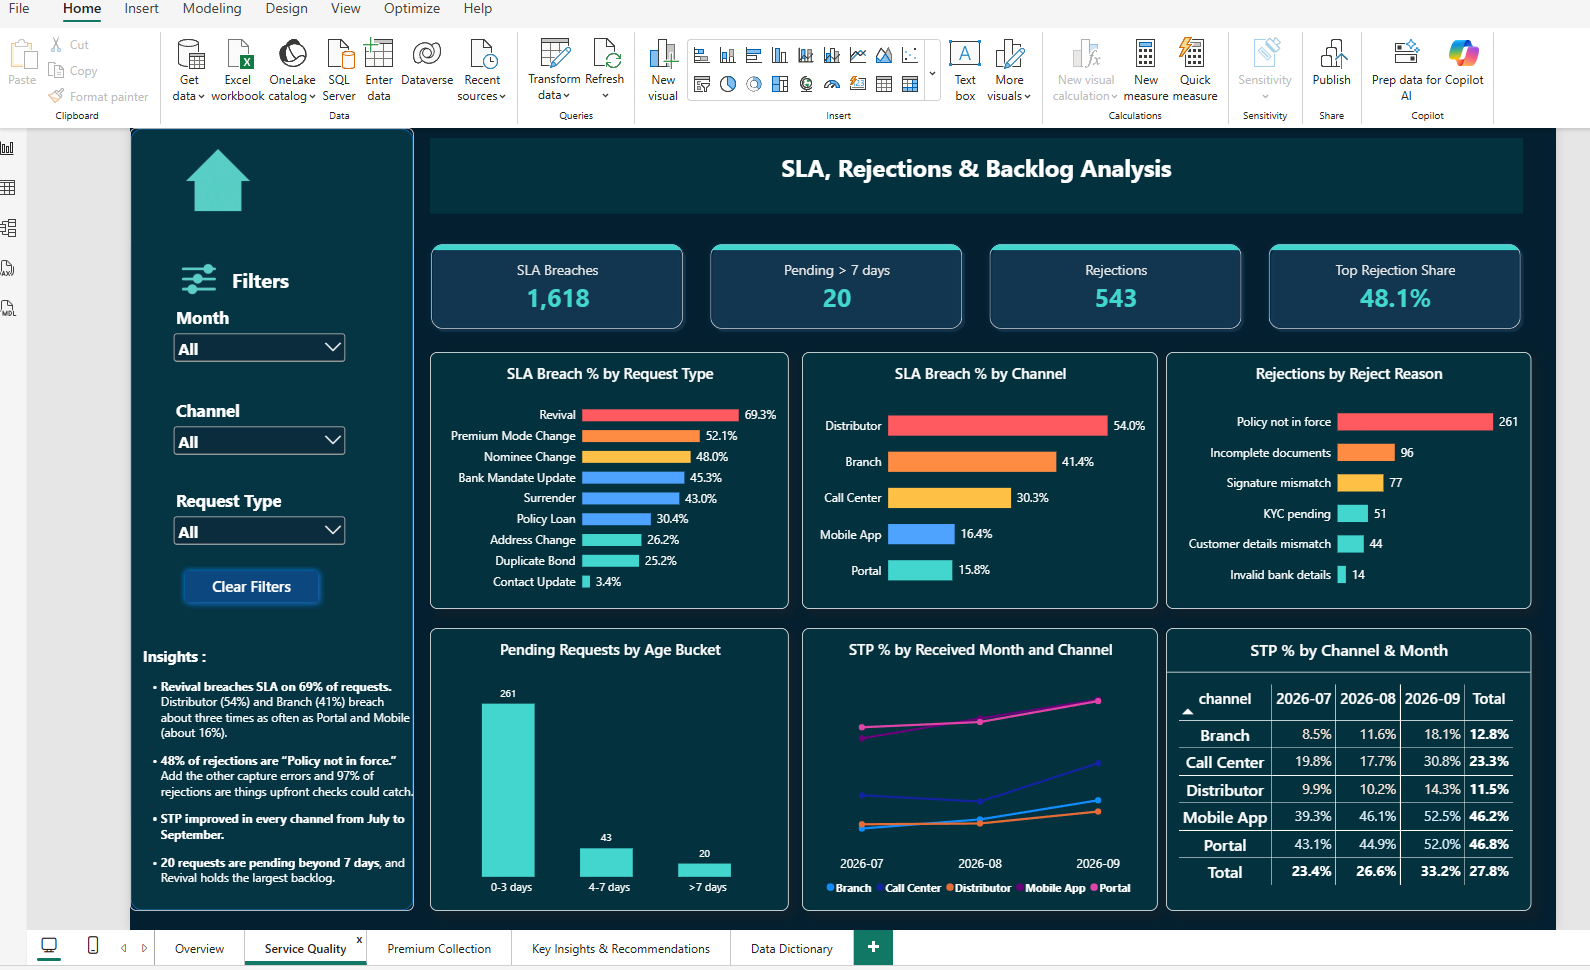

Layout of this report page (visuals, bound fields, positions):
{"tool":"powerbi","page":{"name":"Service Quality","canvas":[1920,1080],"ordinal":1},"visuals":[{"type":"shape","title":"slicer_panel_page2","box":[0,0,382.4,1054.4],"z":0},{"type":"slicer","fields":{"Values":["insurance_pos_3m v_request_clean.channel"]},"box":[53.9,364.9,241,83.5],"z":0,"group":"g1"},{"type":"cardVisual","title":"Cards_page2","fields":{"Data":["measure_table.SLA Breaches","measure_table.Pending > 7 days","measure_table.Rejections","measure_table.Top Rejection Share"]},"box":[394.6,145.4,1492.1,136],"z":1000},{"type":"slicer","fields":{"Values":["v_request_clean.request_type"]},"box":[53.9,486.1,241,83.5],"z":1000,"group":"g1"},{"type":"slicer","fields":{"Values":["v_request_clean.received_month"]},"box":[53.9,239.7,241,83.5],"z":2000,"group":"g1"},{"type":"clusteredBarChart","title":"SLA Breach % by Request Type","fields":{"Category":["v_request_clean.request_type"],"Y":["measure_table.SLA Breach %"]},"box":[404,301.6,483.4,346.1],"z":2000},{"type":"clusteredBarChart","title":"SLA Breach % by Channel","fields":{"Category":["v_request_clean.channel"],"Y":["measure_table.SLA Breach %"]},"box":[904.9,301.6,479.4,346.1],"z":3000},{"type":"clusteredBarChart","title":"Rejections by Reject Reason","fields":{"Category":["v_request_clean.reject_reason"],"Y":["measure_table.Rejections"]},"box":[1395.1,301.6,491.5,346.1],"z":4000},{"type":"clusteredColumnChart","title":"Pending Requests by Age Bucket","fields":{"Category":["v_request_clean.age_bucket"],"Y":["measure_table.Pending Requests"]},"box":[404,673.3,483.4,381.1],"z":5000},{"type":"lineChart","title":"STP % by Received Month and Channel","fields":{"Category":["v_request_clean.received_month"],"Series":["v_request_clean.channel"],"Y":["measure_table.STP %"]},"box":[904.9,673.3,479.4,381.1],"z":6000},{"type":"pivotTable","title":"STP % by Channel & Month","fields":{"Columns":["v_request_clean.received_month"],"Rows":["v_request_clean.channel"],"Values":["measure_table.STP %"]},"box":[1395.1,673.3,491.5,381.1],"z":7000},{"type":"image","title":"slicer_image_page2","box":[50.2,165.5,86.6,71.6],"z":8000},{"type":"textbox","title":"filter_text_page2","box":[136.8,186.4,147.8,68.7],"z":9000},{"type":"actionButton","title":"filter_button_page2","box":[64.6,587.1,198,60.6],"z":10000},{"type":"textbox","title":"text_box_title","box":[404,13.5,1471.9,102.3],"z":11000},{"type":"image","title":"Home_image_page2","box":[17.5,0,202,140],"z":12000},{"type":"textbox","title":"Insights :","box":[17.5,697.6,364.9,371.7],"z":13000},{"type":"group","id":"g1","title":"slicers_pag2","box":[53.9,239.7,241,329.9],"z":14000}]}

Visuals, with their boxes on the page's 1920x1080 design canvas (x1, y1, x2, y2). These are canvas units, not pixel positions in the 1590x970 screenshot, which may show the page scaled, cropped or inside an application window:
"slicer_panel_page2" shape: {"left": 0, "top": 0, "right": 382, "bottom": 1054}
slicer - insurance_pos_3m v_request_clean.channel: {"left": 54, "top": 365, "right": 295, "bottom": 448}
"Cards_page2" cardVisual: {"left": 395, "top": 145, "right": 1887, "bottom": 281}
slicer - v_request_clean.request_type: {"left": 54, "top": 486, "right": 295, "bottom": 570}
slicer - v_request_clean.received_month: {"left": 54, "top": 240, "right": 295, "bottom": 323}
"SLA Breach % by Request Type" clusteredBarChart: {"left": 404, "top": 302, "right": 887, "bottom": 648}
"SLA Breach % by Channel" clusteredBarChart: {"left": 905, "top": 302, "right": 1384, "bottom": 648}
"Rejections by Reject Reason" clusteredBarChart: {"left": 1395, "top": 302, "right": 1887, "bottom": 648}
"Pending Requests by Age Bucket" clusteredColumnChart: {"left": 404, "top": 673, "right": 887, "bottom": 1054}
"STP % by Received Month and Channel" lineChart: {"left": 905, "top": 673, "right": 1384, "bottom": 1054}
"STP % by Channel & Month" pivotTable: {"left": 1395, "top": 673, "right": 1887, "bottom": 1054}
"slicer_image_page2" image: {"left": 50, "top": 166, "right": 137, "bottom": 237}
"filter_text_page2" textbox: {"left": 137, "top": 186, "right": 285, "bottom": 255}
"filter_button_page2" actionButton: {"left": 65, "top": 587, "right": 263, "bottom": 648}
"text_box_title" textbox: {"left": 404, "top": 14, "right": 1876, "bottom": 116}
"Home_image_page2" image: {"left": 18, "top": 0, "right": 220, "bottom": 140}
"Insights :" textbox: {"left": 18, "top": 698, "right": 382, "bottom": 1069}
"slicers_pag2" group: {"left": 54, "top": 240, "right": 295, "bottom": 570}
